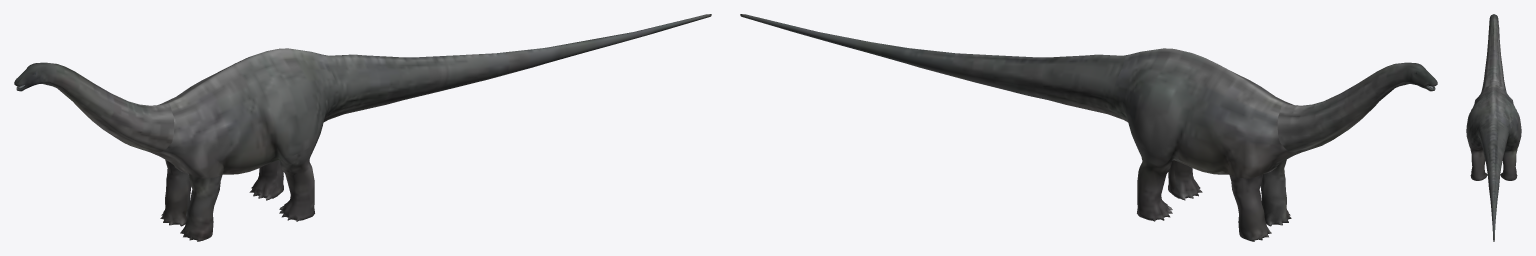
Rendered from nature-apatosaurus.glb.
The picture shows the model from 3 angles, left to right: view 1: azimuth 30°, elevation 25°; view 2: azimuth 150°, elevation 25°; view 3: azimuth 270°, elevation 25°; orthographic projection. The views are drawn at different scales.
Parts seen in each view (by area): view 1: Animal; view 2: Animal; view 3: Animal.
Boxes of the visible parts, box(x1,y1,x2,y2) form: Animal: box(14, 14, 711, 241); Animal: box(740, 14, 1437, 241); Animal: box(1466, 14, 1521, 241).
Size of the model in its own units: 3.2 by 0.882 by 0.4317.
Materials: 1 (1 with a texture image).
